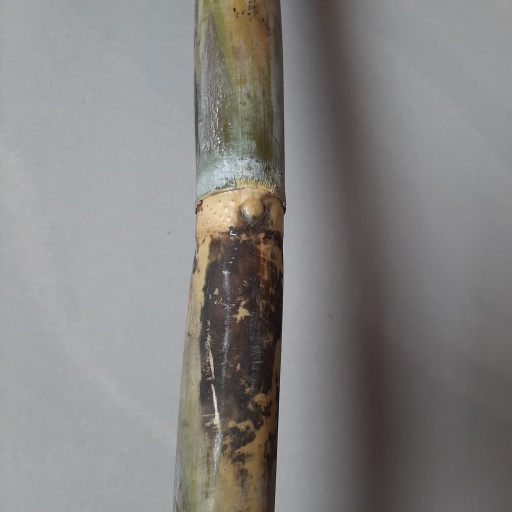Bud: (239, 196, 270, 228)
